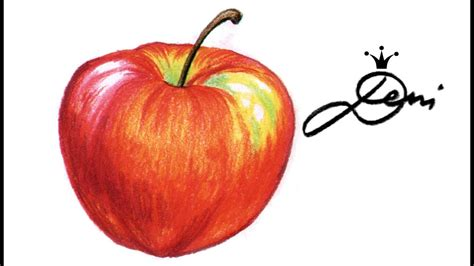apple: (57, 6, 299, 259)
